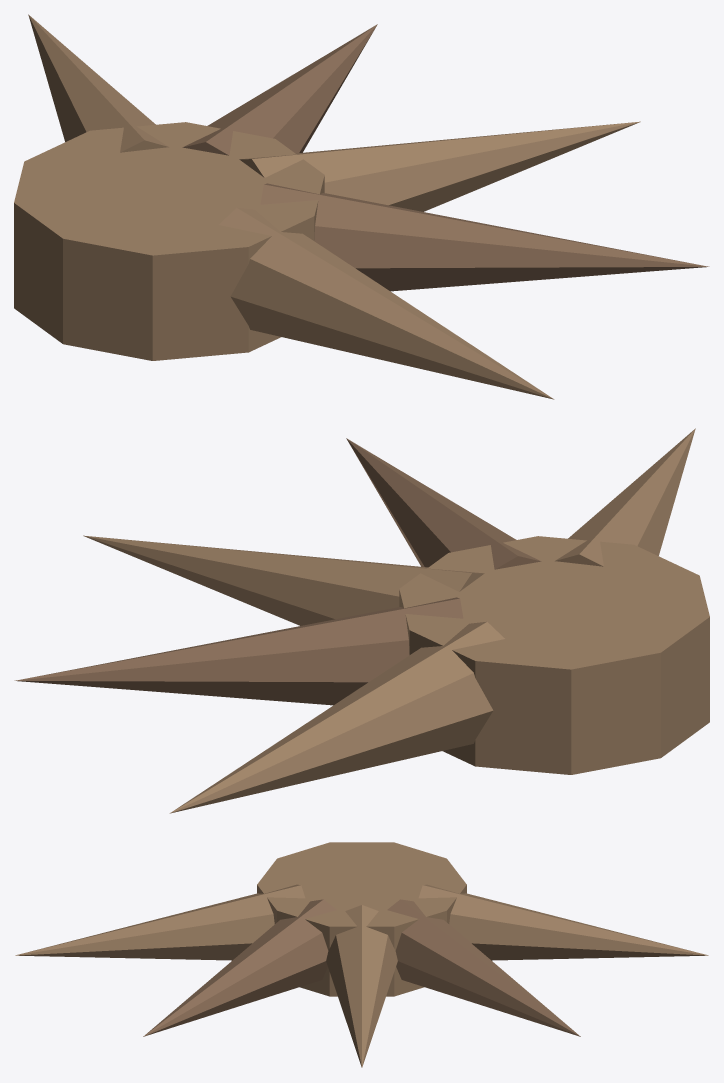
File: 50-Vegetacion_raices_expuestas.glb
The picture shows the model from 3 angles, top to bottom: view 1: azimuth 30°, elevation 25°; view 2: azimuth 150°, elevation 25°; view 3: azimuth 270°, elevation 25°; orthographic projection. The views are drawn at different scales.
Visible parts, largest first — view 1: SM_Raices_M_Raices_Corteza, SM_Raices_M_Raices_Corteza_Osc; view 2: SM_Raices_M_Raices_Corteza, SM_Raices_M_Raices_Corteza_Osc; view 3: SM_Raices_M_Raices_Corteza, SM_Raices_M_Raices_Corteza_Osc.
Boxes of the visible parts, box(x1,y1,x2,y2) form: SM_Raices_M_Raices_Corteza: box(14, 14, 640, 399); SM_Raices_M_Raices_Corteza_Osc: box(182, 24, 709, 291); SM_Raices_M_Raices_Corteza: box(83, 428, 709, 813); SM_Raices_M_Raices_Corteza_Osc: box(14, 438, 541, 705); SM_Raices_M_Raices_Corteza: box(15, 842, 708, 1067); SM_Raices_M_Raices_Corteza_Osc: box(143, 899, 580, 1036).
Size of the model in its own units: 1.32 by 0.24 by 1.99.
